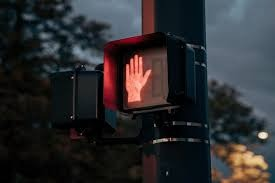pedestrian_stop: (106, 41, 180, 110)
